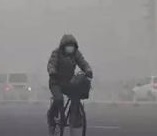person: (41, 31, 94, 136)
